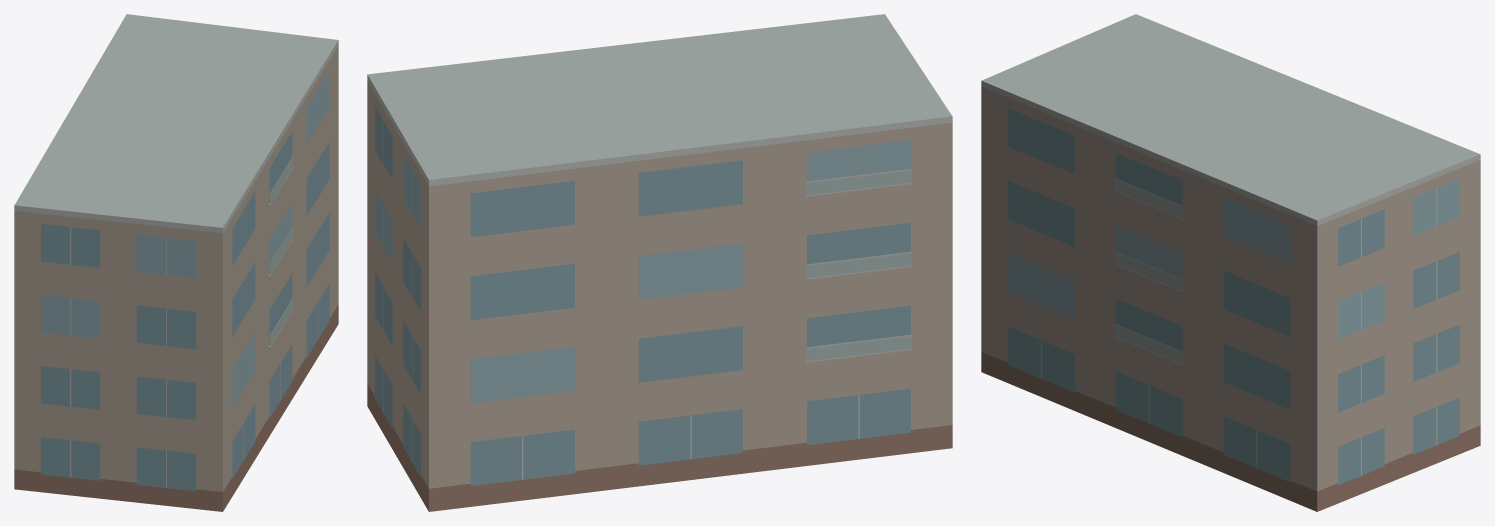
File: survey-upis-32702499.glb
3 renders of one model, left to right at view 1: azimuth 30°, elevation 25°; view 2: azimuth 150°, elevation 25°; view 3: azimuth 270°, elevation 25°, orthographic. The views are drawn at different scales.
Parts seen in each view (by area): view 1: survey-upis-32702499.tmp; view 2: survey-upis-32702499.tmp; view 3: survey-upis-32702499.tmp.
Part boxes in pixels (x1,y1,x2,y2): survey-upis-32702499.tmp: [14, 14, 338, 511]; survey-upis-32702499.tmp: [367, 14, 952, 511]; survey-upis-32702499.tmp: [981, 14, 1480, 511].
Bounding box in the file's own units: 19.46 × 12.8 × 19.88.
